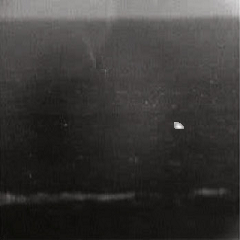Target: (173, 121, 185, 129)
